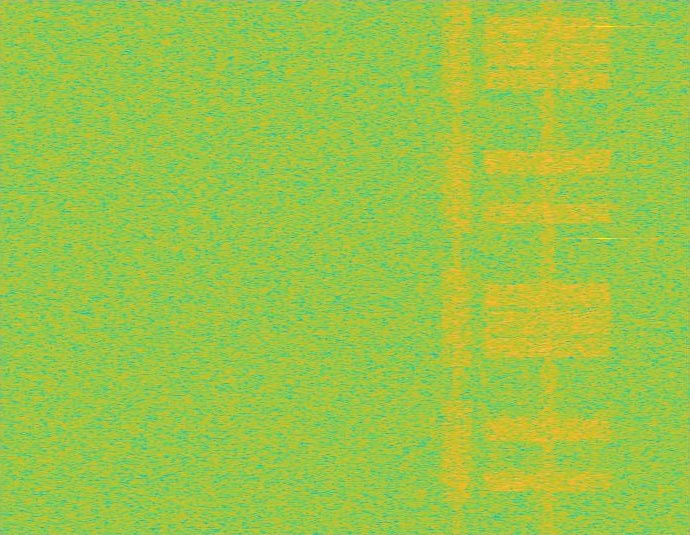5G: (440, 0, 475, 534)
DSSS: (538, 0, 557, 534), (454, 0, 461, 534)
LTE: (479, 0, 617, 534)
Radar: (598, 0, 612, 534)
